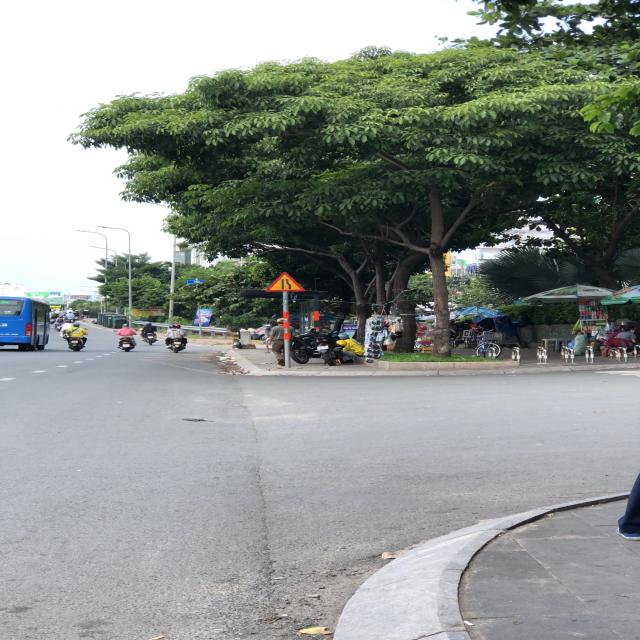Bien bao duong bi thu hep: (262, 271, 309, 293)
